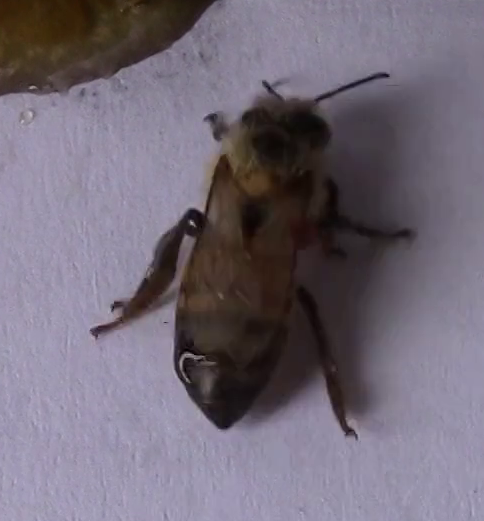Varroa destructor: (291, 218, 320, 248)
